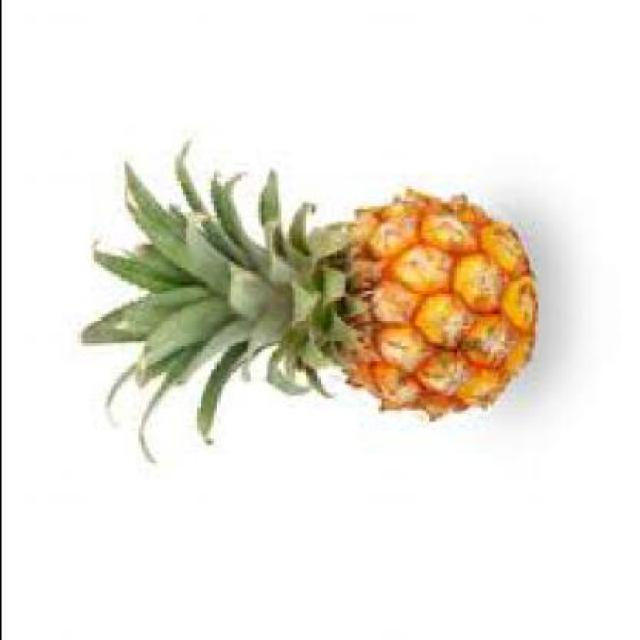BIODEGRADABLE: (75, 148, 537, 466)
